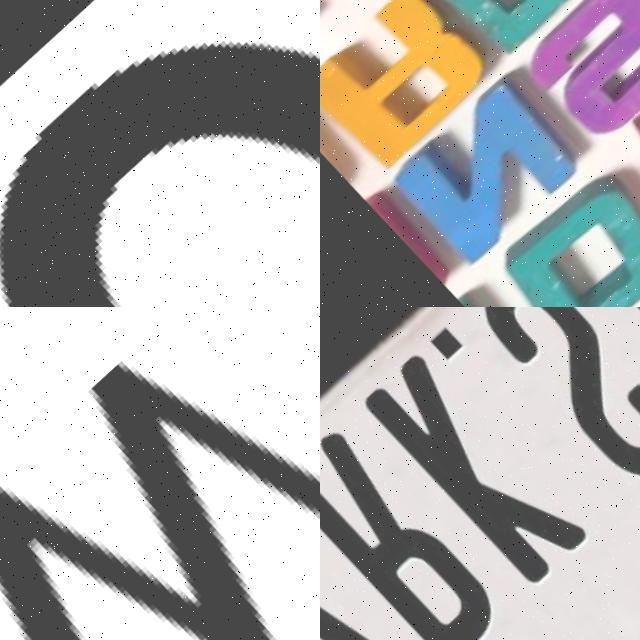D: (476, 168, 640, 307)
K: (349, 346, 590, 591)
M: (395, 0, 619, 72)
N: (367, 68, 586, 268)
O: (0, 36, 320, 307)
R: (320, 423, 502, 640), (320, 0, 493, 172)
S: (455, 307, 640, 501), (503, 0, 640, 146)
W: (0, 307, 320, 640)
Y: (540, 307, 640, 425)
Z: (320, 497, 429, 640)
